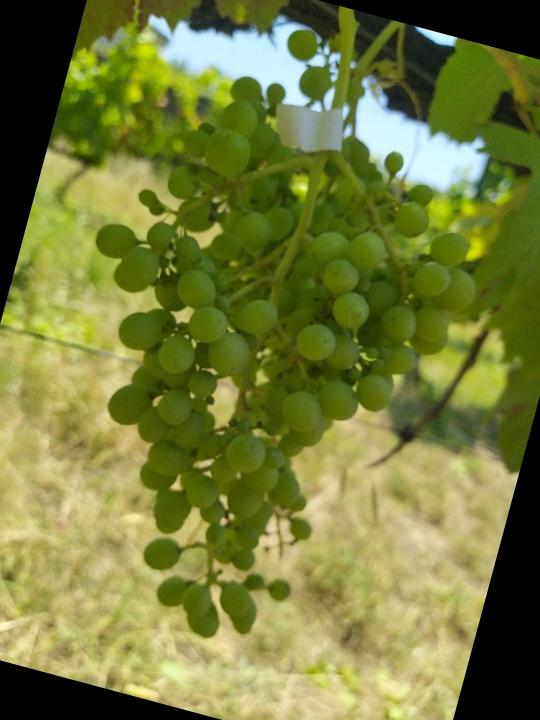grape: (0, 44, 516, 683)
